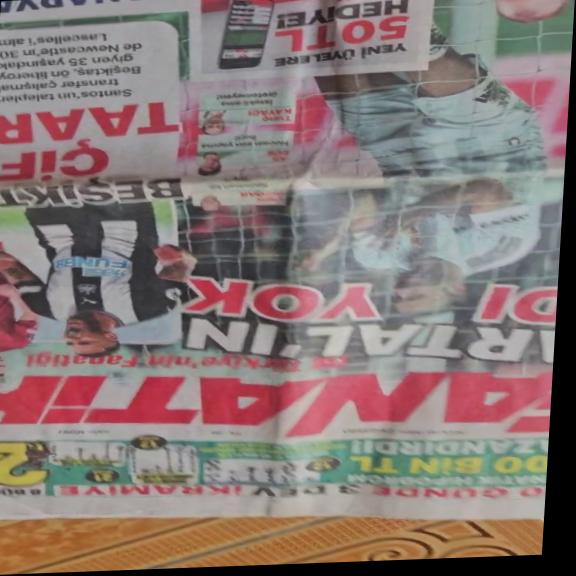Kertas: (0, 160, 560, 521)
